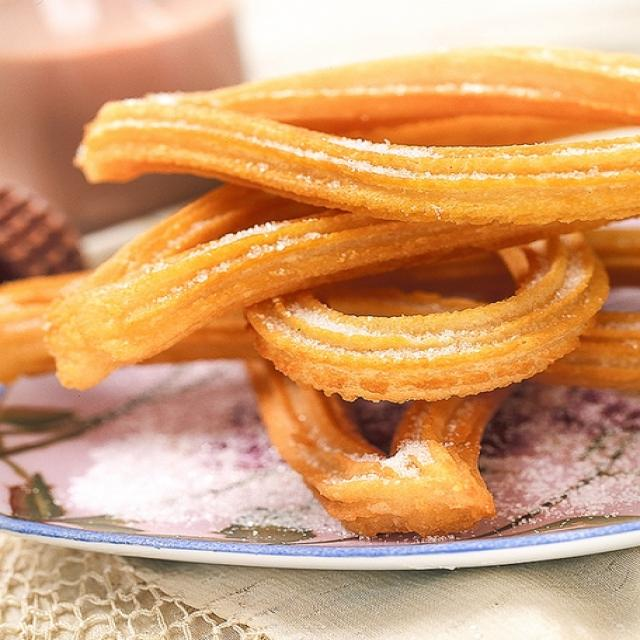炸货点心: (19, 23, 636, 560)
